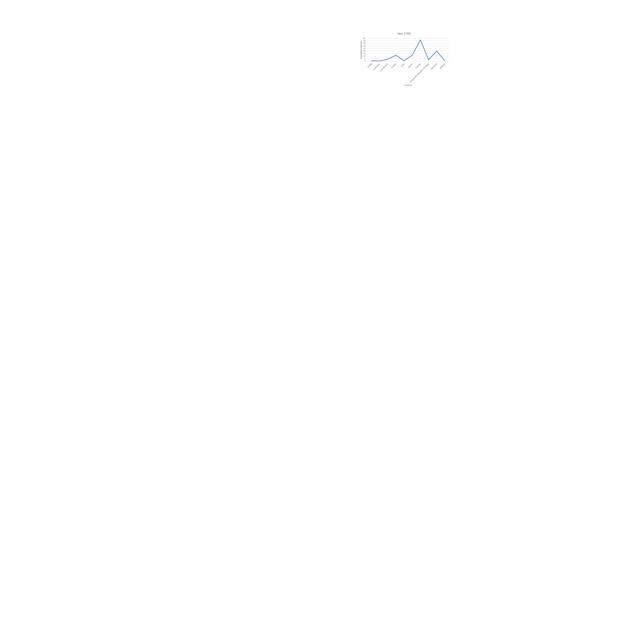Graph: (359, 31, 449, 88)
